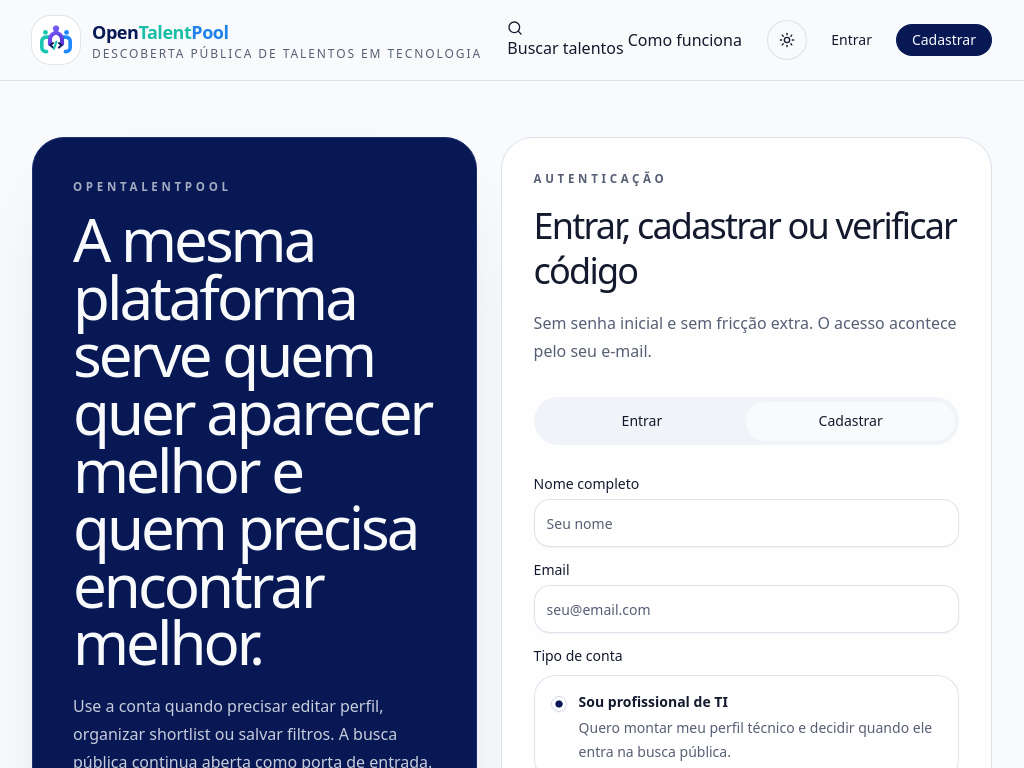
Auth › bloqueia o cadastro sem aceite dos termos e da política de privacidade
Click the tab "Cadastrar": (851, 421) [746,402,955,441]
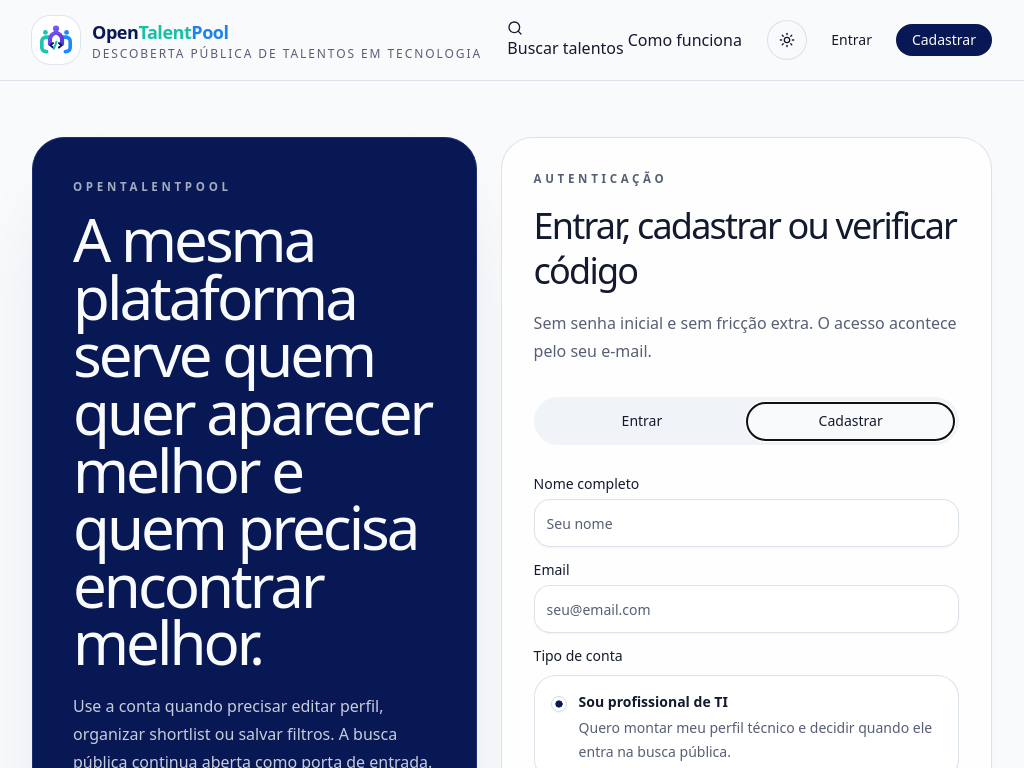
In the field labelled "Nome completo": (746, 523) [534,499,959,547], type "Ada Lovelace"
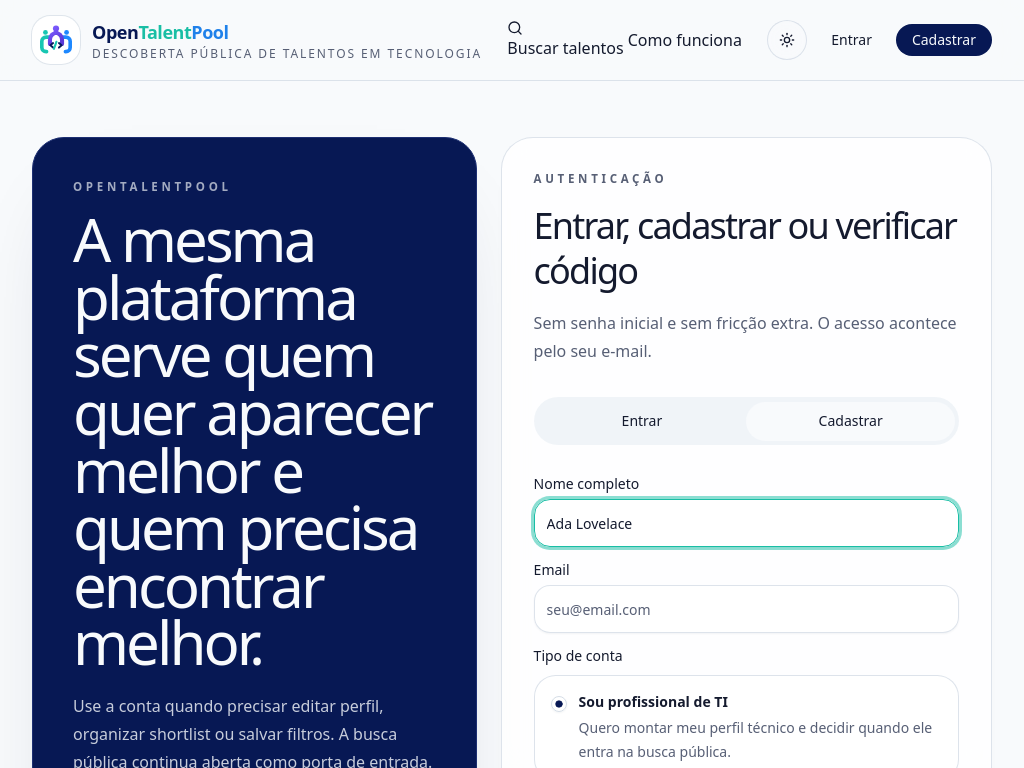
In the field labelled "Email": (746, 609) [534,585,959,633], type "ada@example.com"
(page scrolled)
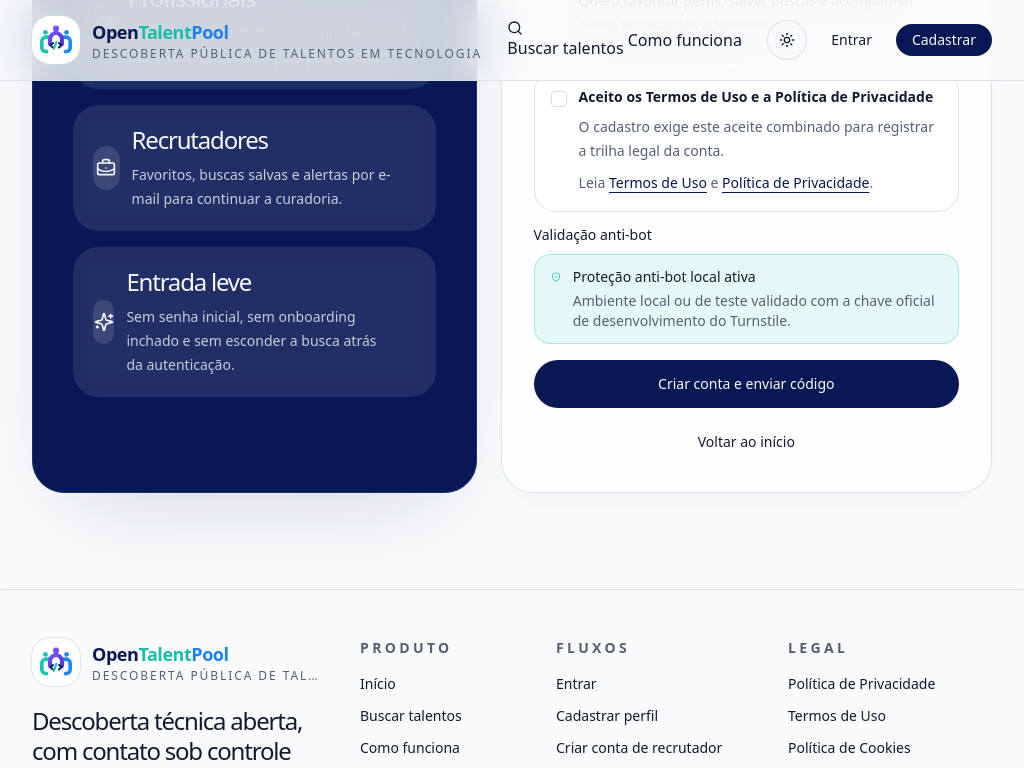
Click the button "Criar conta e enviar código": (746, 384) [534,360,959,408]
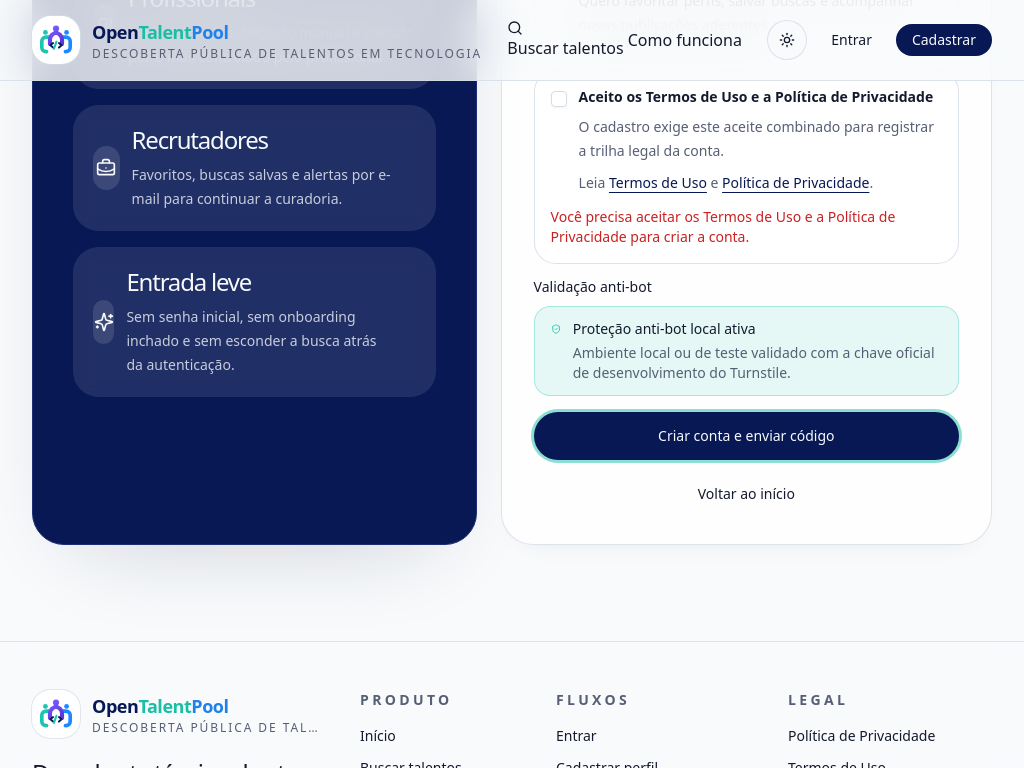
Expected: the text "você precisa aceitar os termos de uso e a política de privacidade para criar a conta" is shown, [551,207,895,246]
